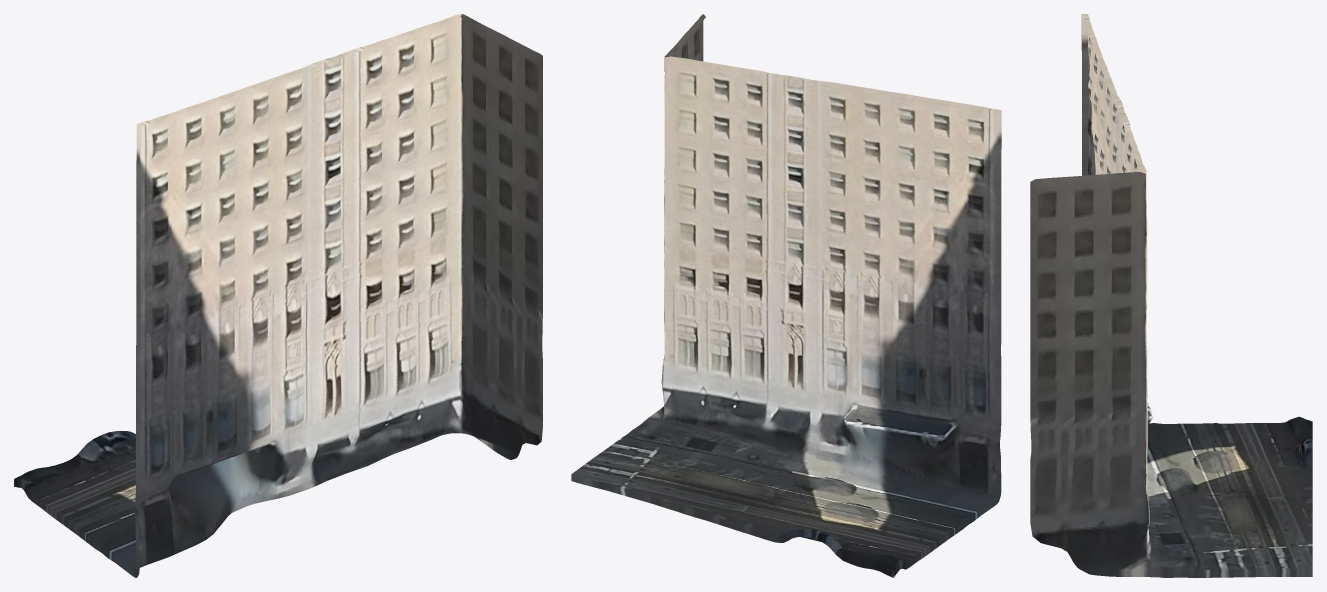
Rendered from z20-167747-405244-h0-yup-uvflip-v3-world.glb.
The picture shows the model from 3 angles, left to right: view 1: azimuth 30°, elevation 25°; view 2: azimuth 150°, elevation 25°; view 3: azimuth 270°, elevation 25°; orthographic projection. The views are drawn at different scales.
Size of the model in its own units: 30.16 by 34.96 by 21.44.
1 material, 1 textured.
